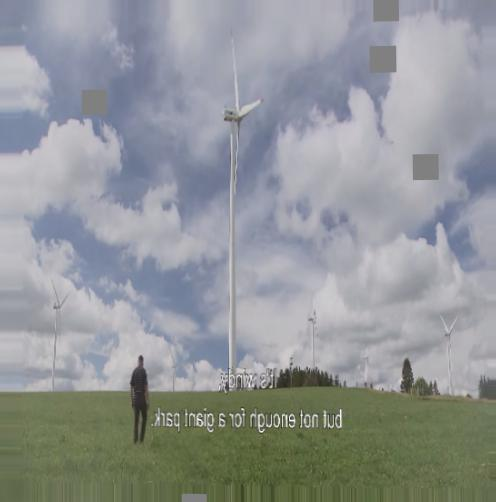wind turbine: (221, 26, 266, 392), (44, 278, 69, 391), (436, 312, 465, 400)
